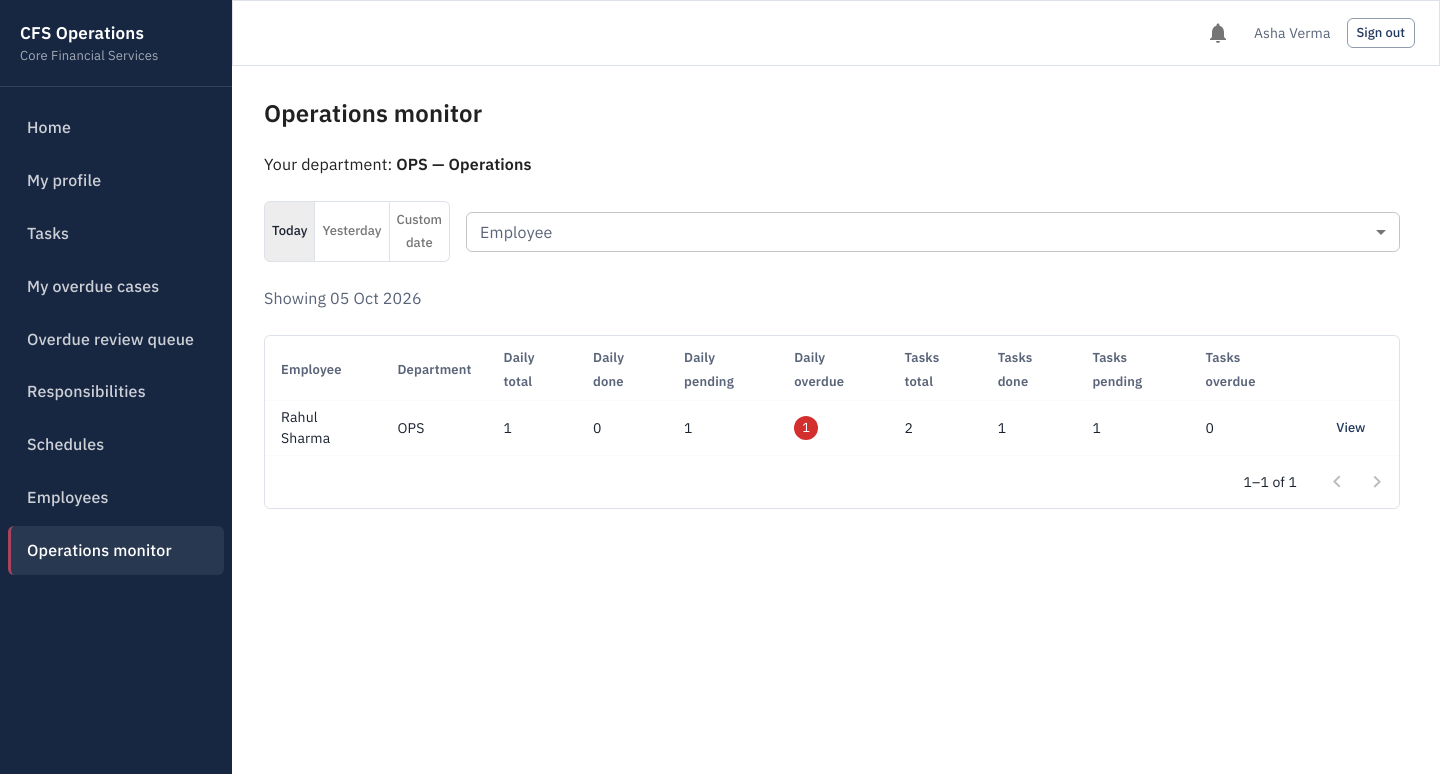
Test: Operations monitor (Operations Manager: own department) › uses the team endpoints, shows the department and offers no department filter
Expected: the text "Rahul Sharma" is shown, [265,401,382,456]
Expected: the text "OPS — Operations" is shown, [396,154,532,174]
Click the button "Yesterday" at (352, 232), box [314,201,390,262]
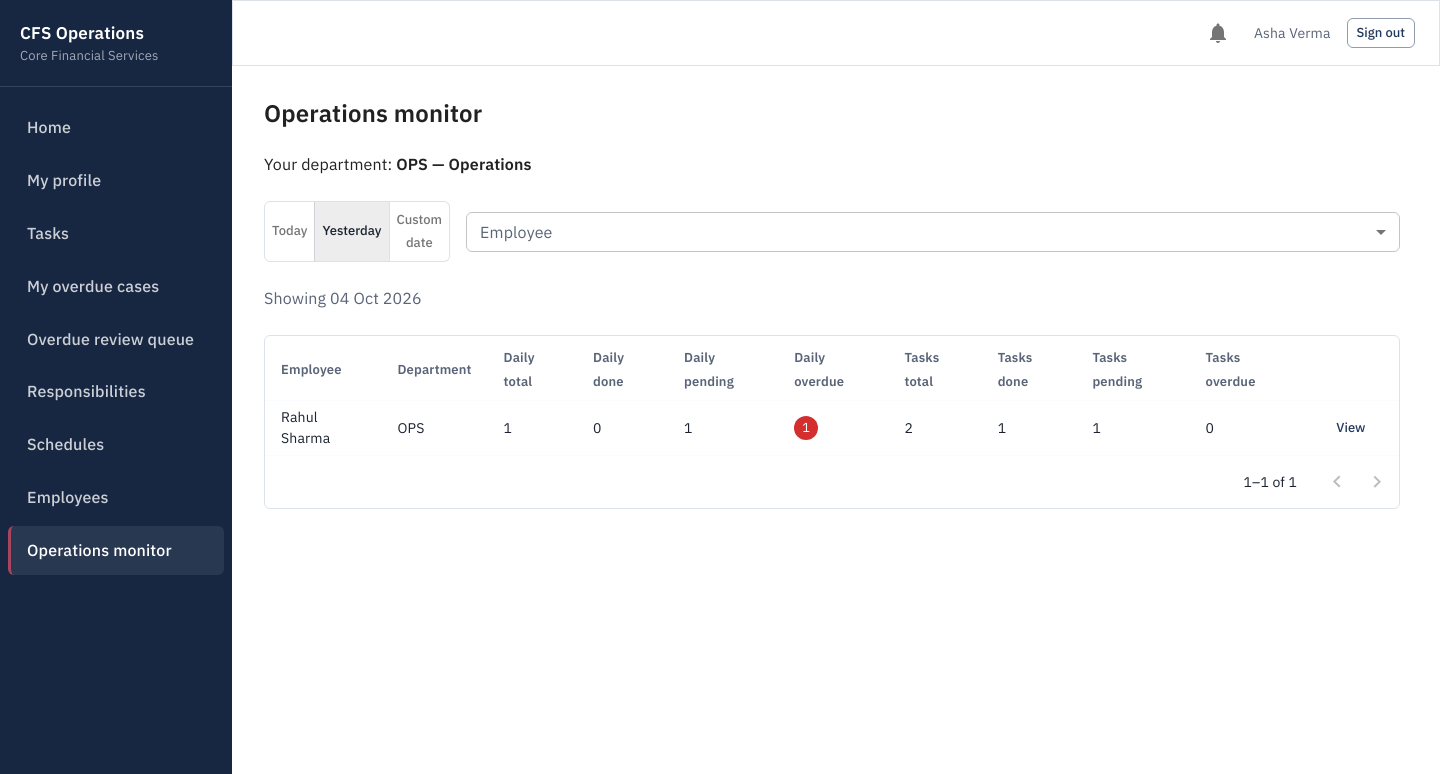
Click the button "View" at (1351, 428), box [1319,413,1383,444]
(page scrolled)
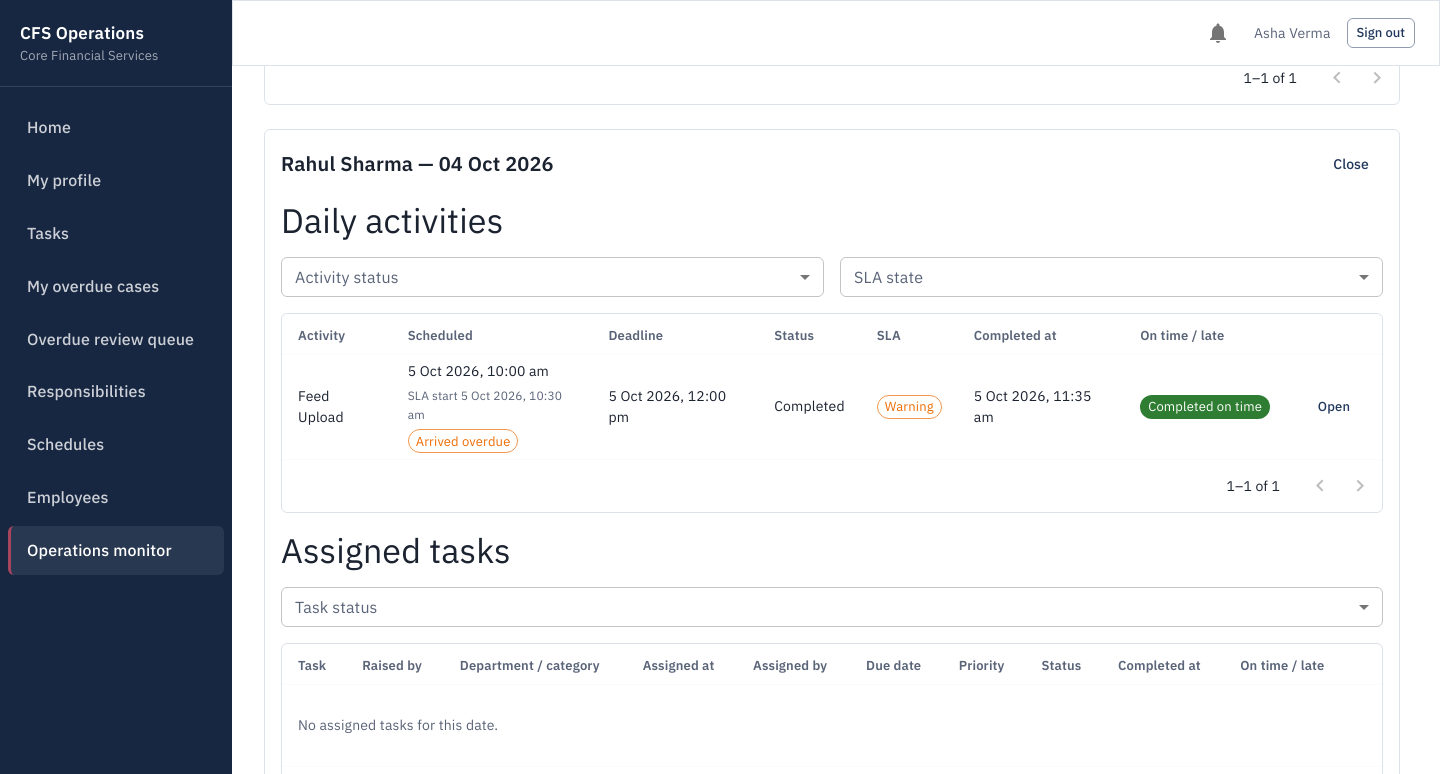
Expected: the text "Completed on time" is shown, [1140,397,1270,417]
Expected: the text "Arrived overdue" is shown, [409,432,518,451]
Expected: the text "SLA start 5 Oct 2026, 10:30 am" is shown, [408,386,576,425]
